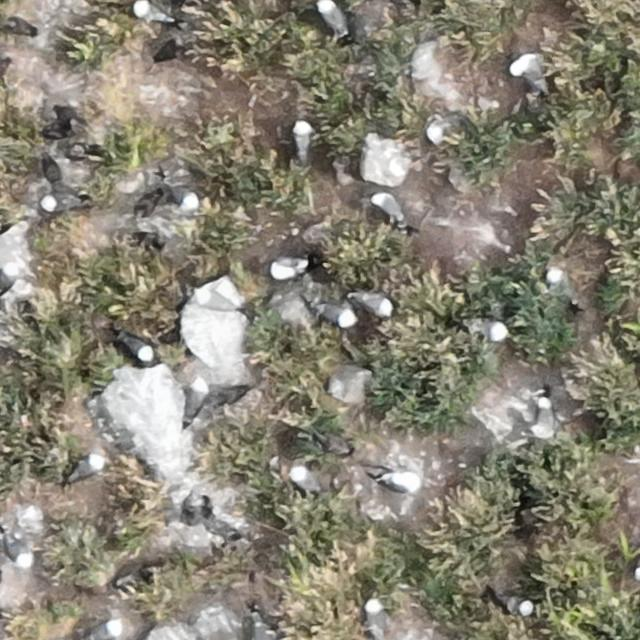umineko: (512, 46, 554, 98), (547, 264, 580, 312), (192, 286, 240, 314), (161, 178, 200, 211), (426, 116, 470, 144), (382, 467, 423, 494), (185, 378, 209, 423), (371, 192, 402, 221), (357, 293, 393, 315), (319, 1, 343, 34), (318, 303, 354, 325), (471, 320, 508, 340), (292, 468, 321, 493), (122, 335, 151, 359), (136, 4, 170, 24), (7, 536, 29, 566), (294, 120, 312, 154), (270, 257, 304, 275), (72, 458, 101, 479), (41, 194, 73, 211), (536, 398, 551, 434), (86, 621, 114, 640), (365, 602, 383, 630), (516, 599, 533, 618)
